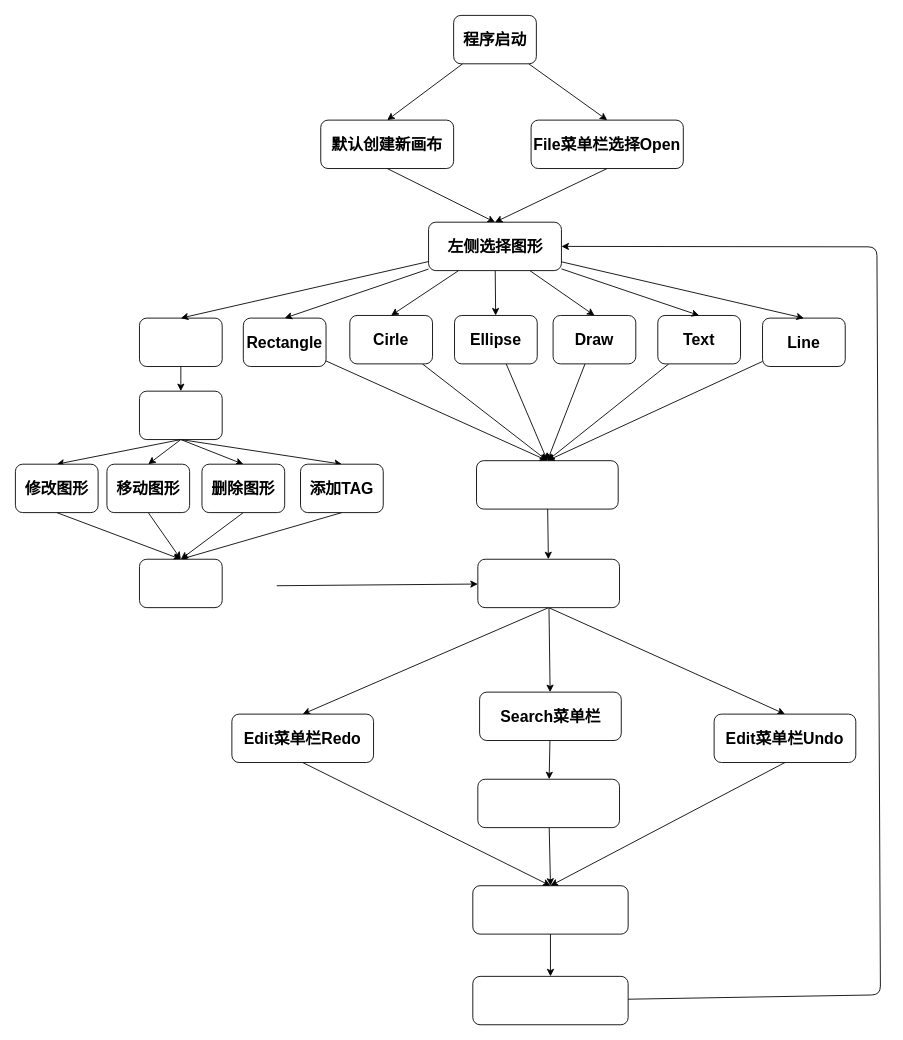
This 903x1040 diagram has some shape labels left out. Here are the shapes that lost their labels. From the top down, the box of each, then its label:
(139, 317, 222, 367): Select
(139, 390, 222, 440): 框选图形
(476, 460, 618, 509): 右侧选择图形参数
(139, 558, 222, 608): Finish
(477, 558, 620, 608): 中央画布绘制图形
(477, 778, 620, 828): 根据TAG查找图形
(472, 885, 628, 934): File菜单栏选择Save
(472, 975, 628, 1025): File菜单栏选择New
